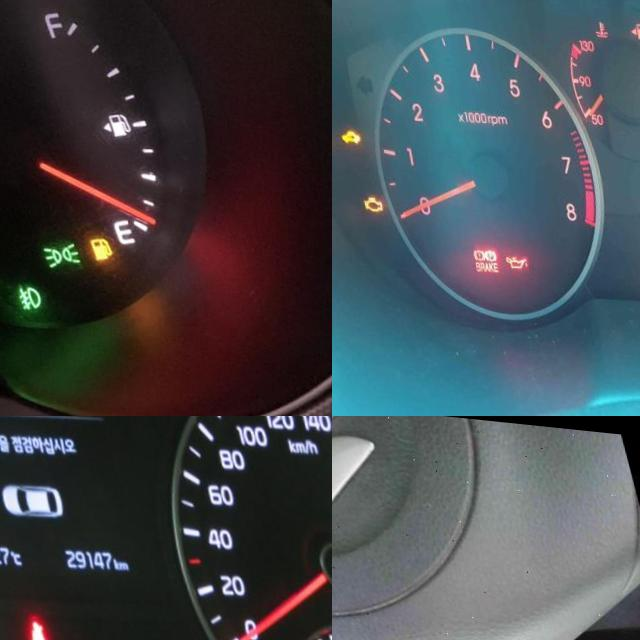FrontFogLight: (3, 276, 31, 305)
Low fuel level: (78, 227, 103, 254)
SideLamp: (30, 231, 71, 264)
